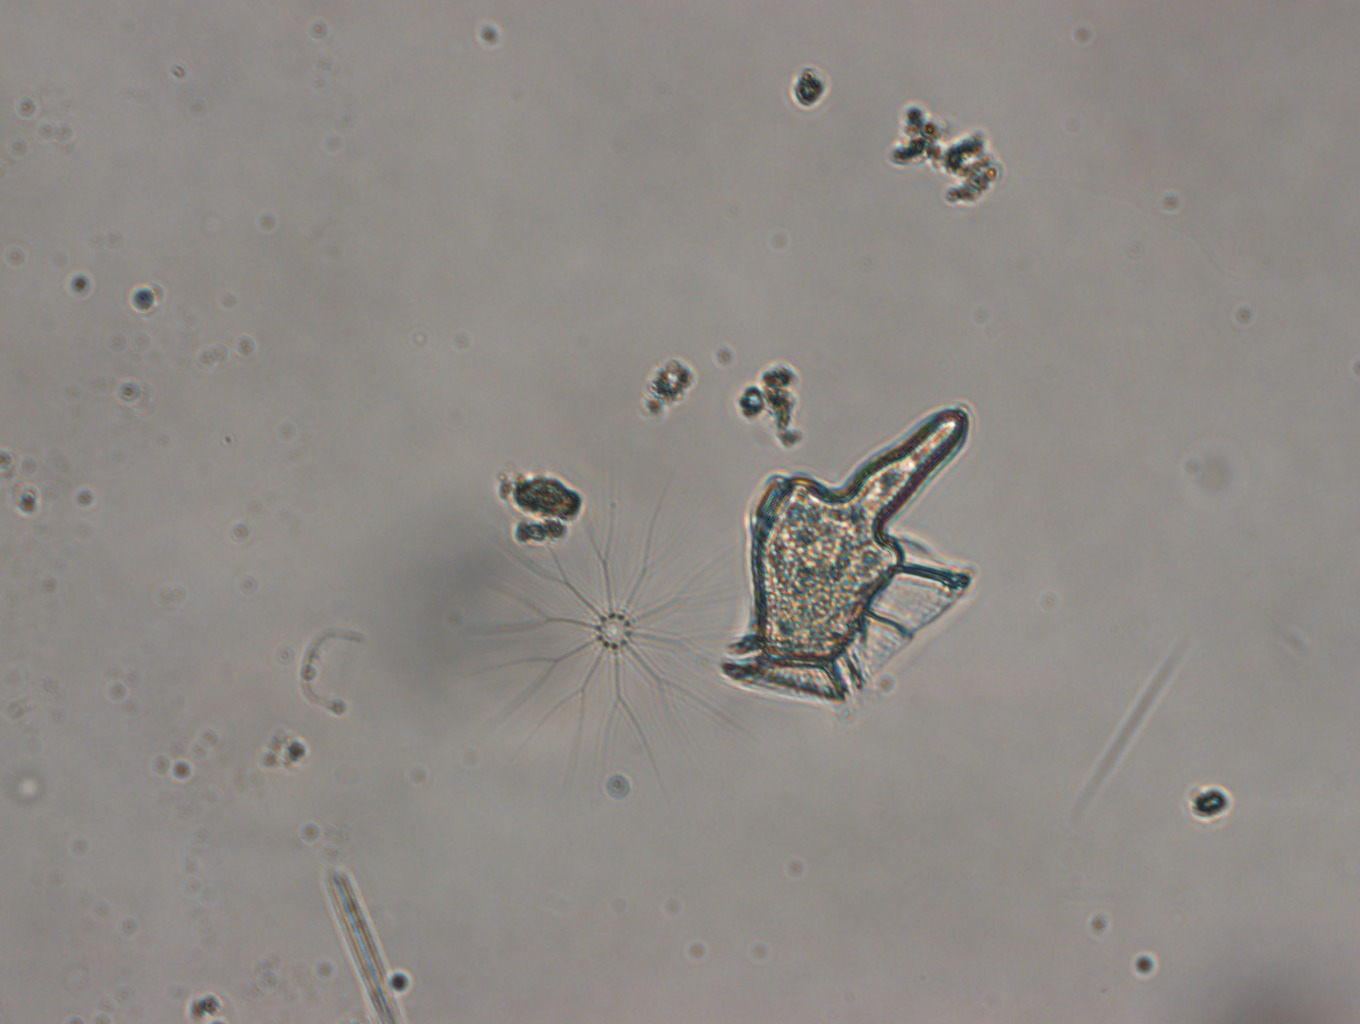bacteriastrum: (446, 480, 768, 811)
dinophysis caudata: (717, 399, 976, 713)
